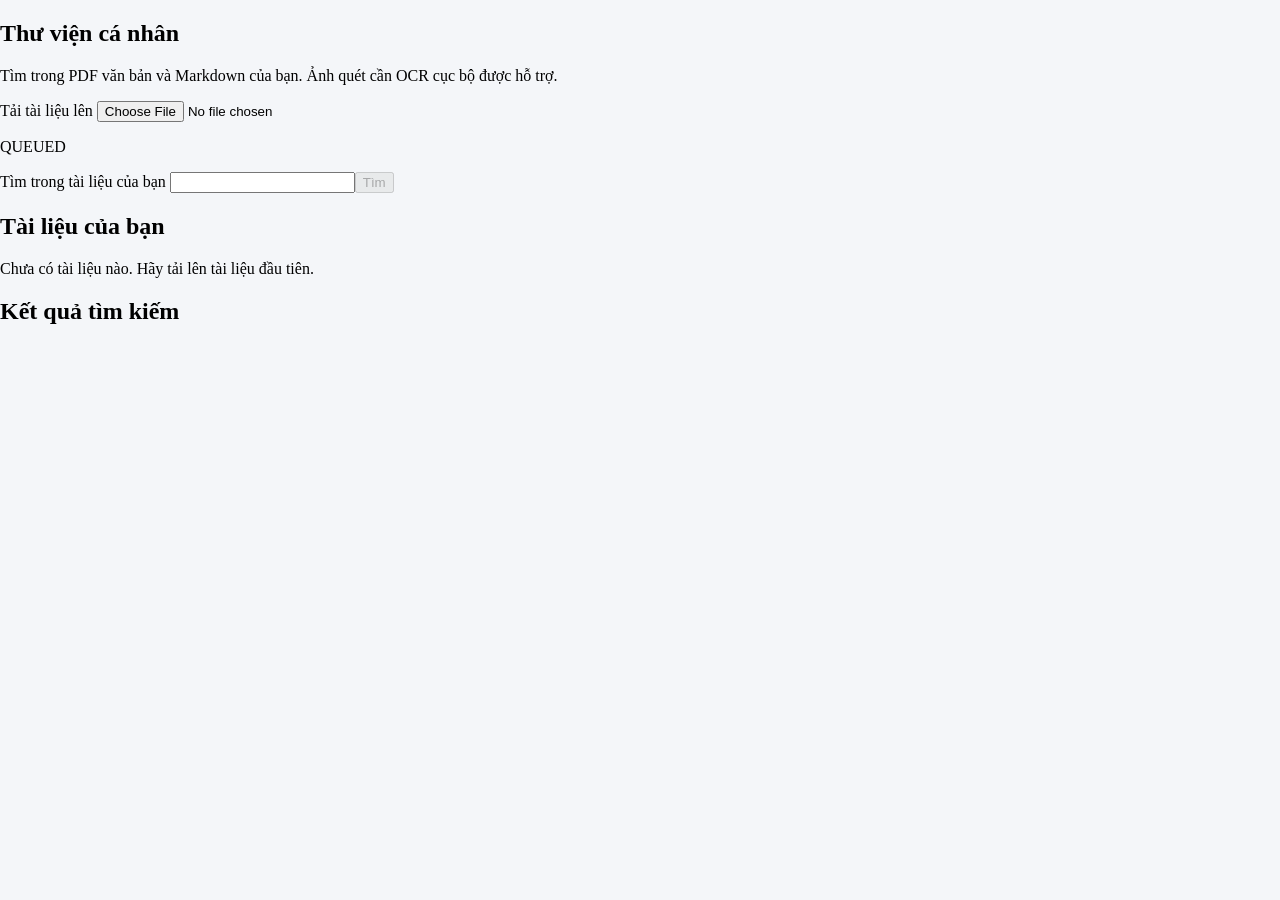
Scenario: PersonalLibrary › owner flow needs CLEAN, queues and searches without a model setup
The image size is (1280, 900).
Earlier steps of the test are not shown.
Check: the text "QUEUED" is shown, box [0,138,66,155]
Type "Director" into the field labelled "Tìm trong tài liệu của bạn" at (262, 182), box [170,172,355,193]
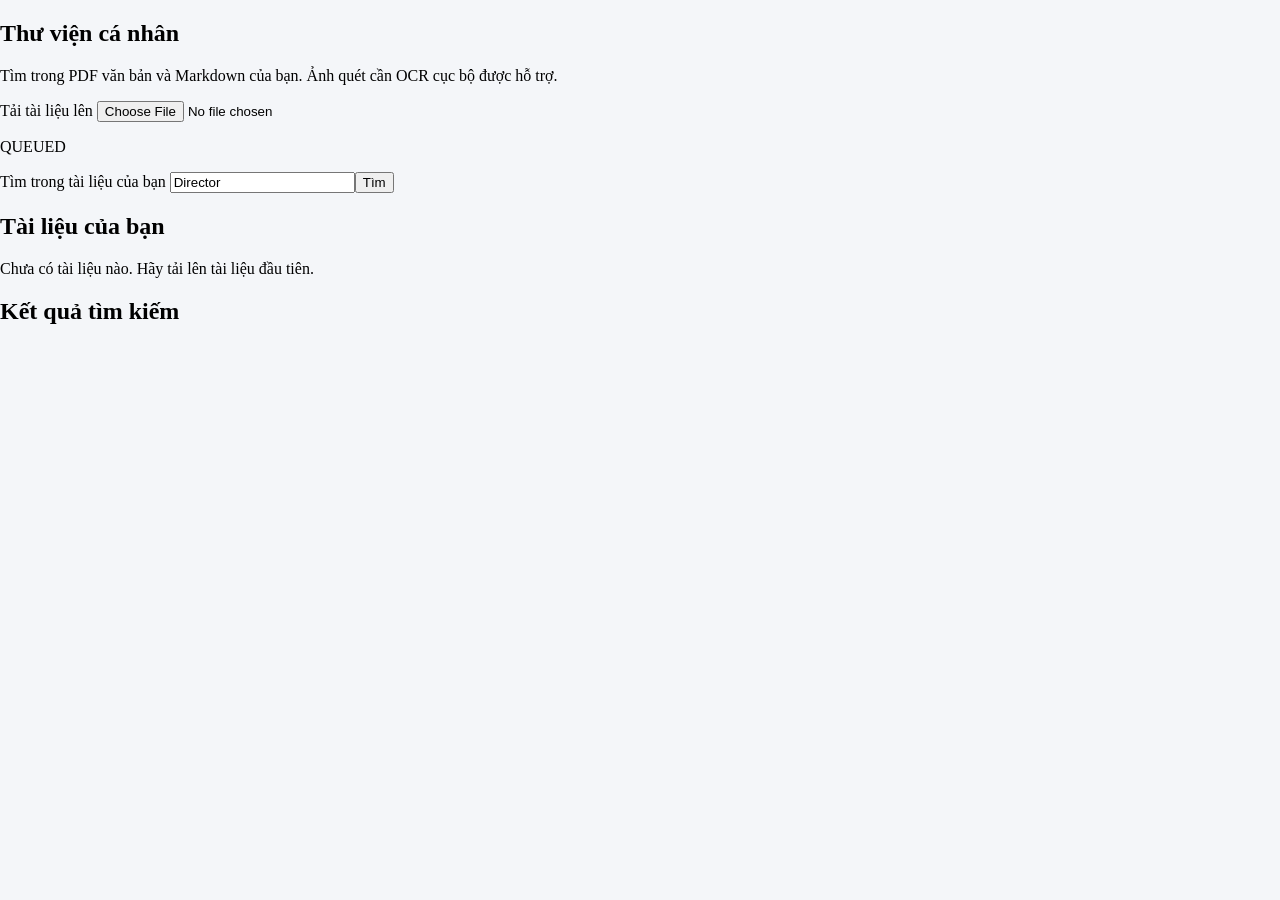
Click the button "Tìm" at (374, 182), box [355,172,394,193]
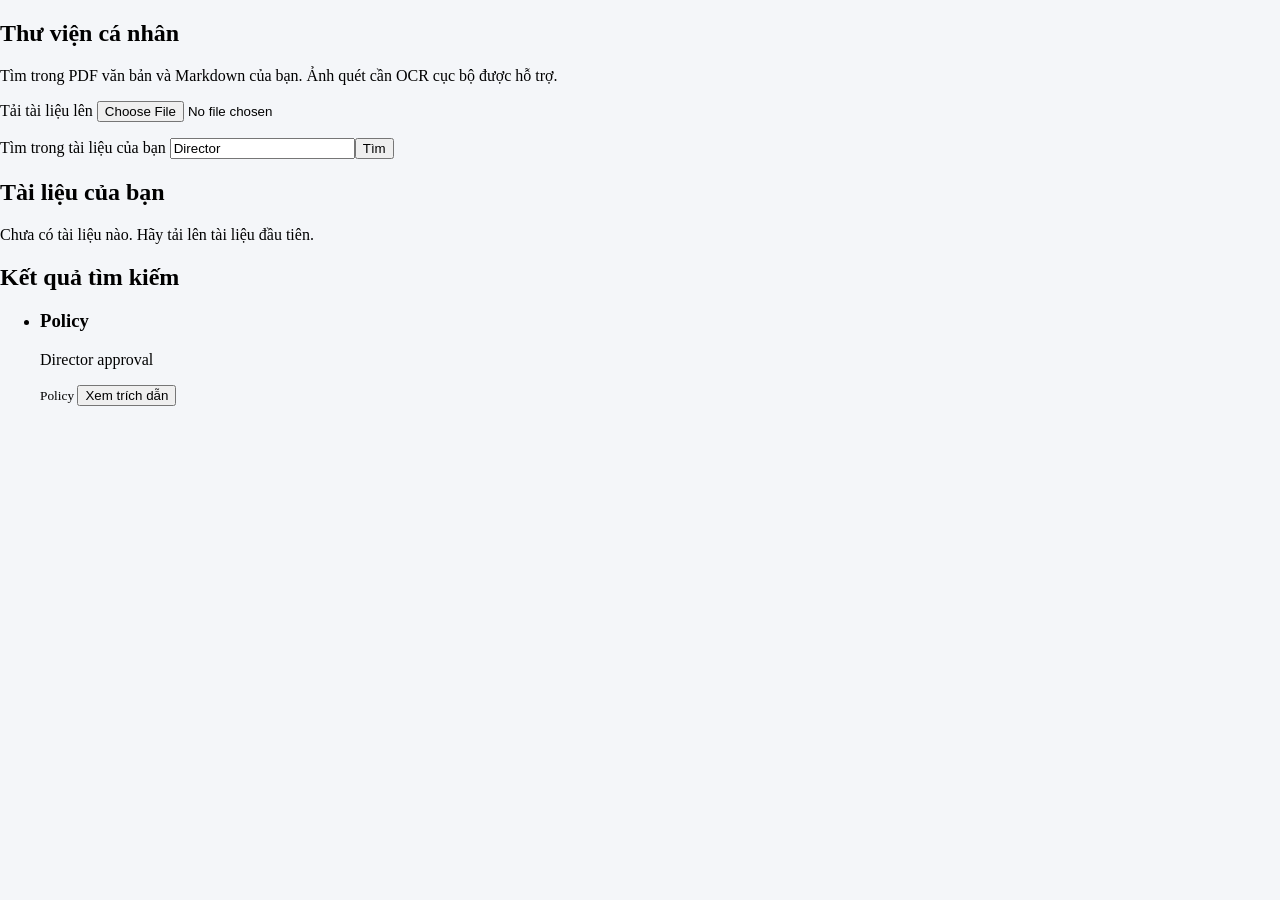
Check: the text "Director approval" is shown, box [40,351,153,368]
Click the button "Xem trích dẫn" at (127, 396), box [77,385,176,406]
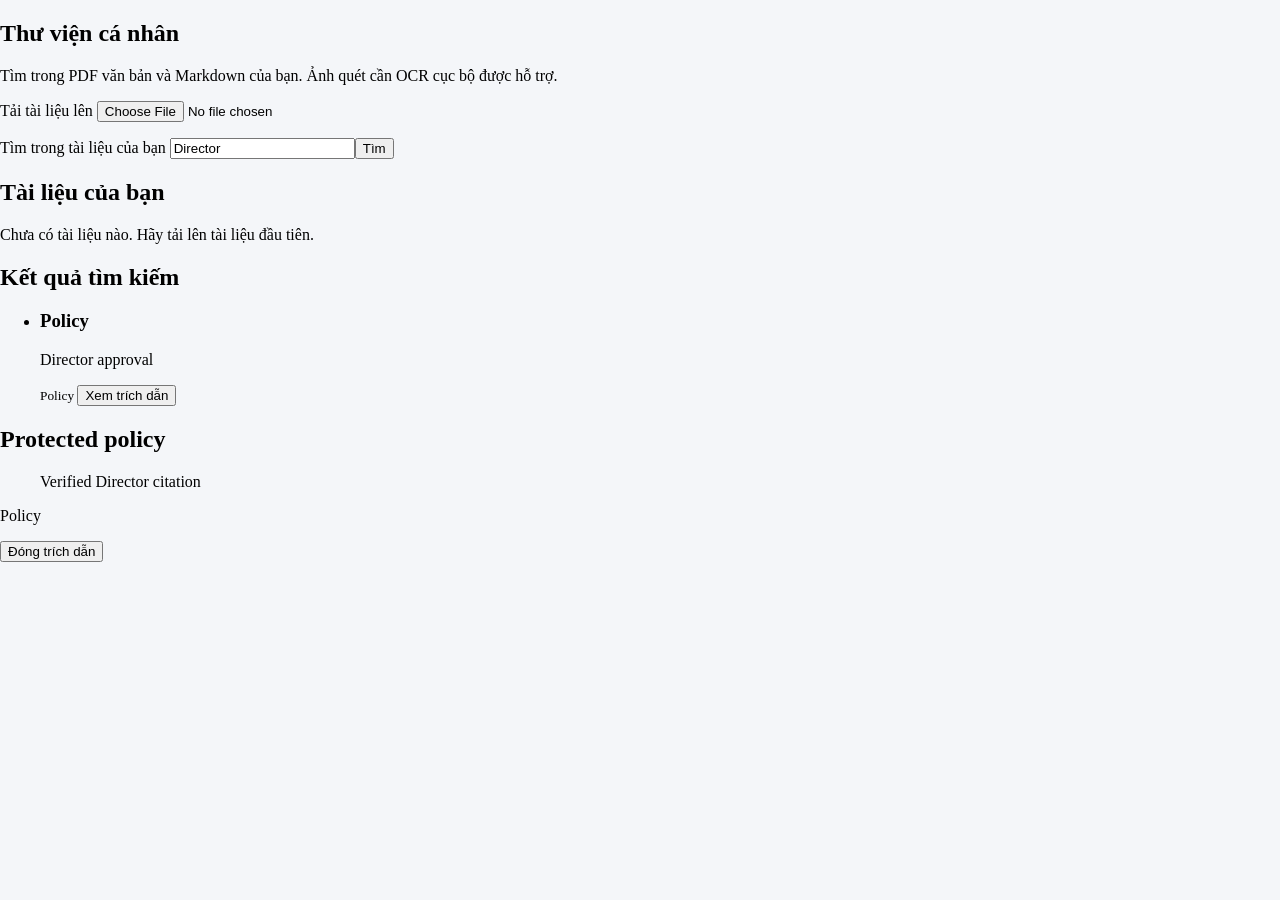
Check: the dialog named "Trích dẫn được bảo vệ" is shown, box [0,426,201,562]
Check: the text "Verified Director citation" is shown, box [40,473,201,490]
